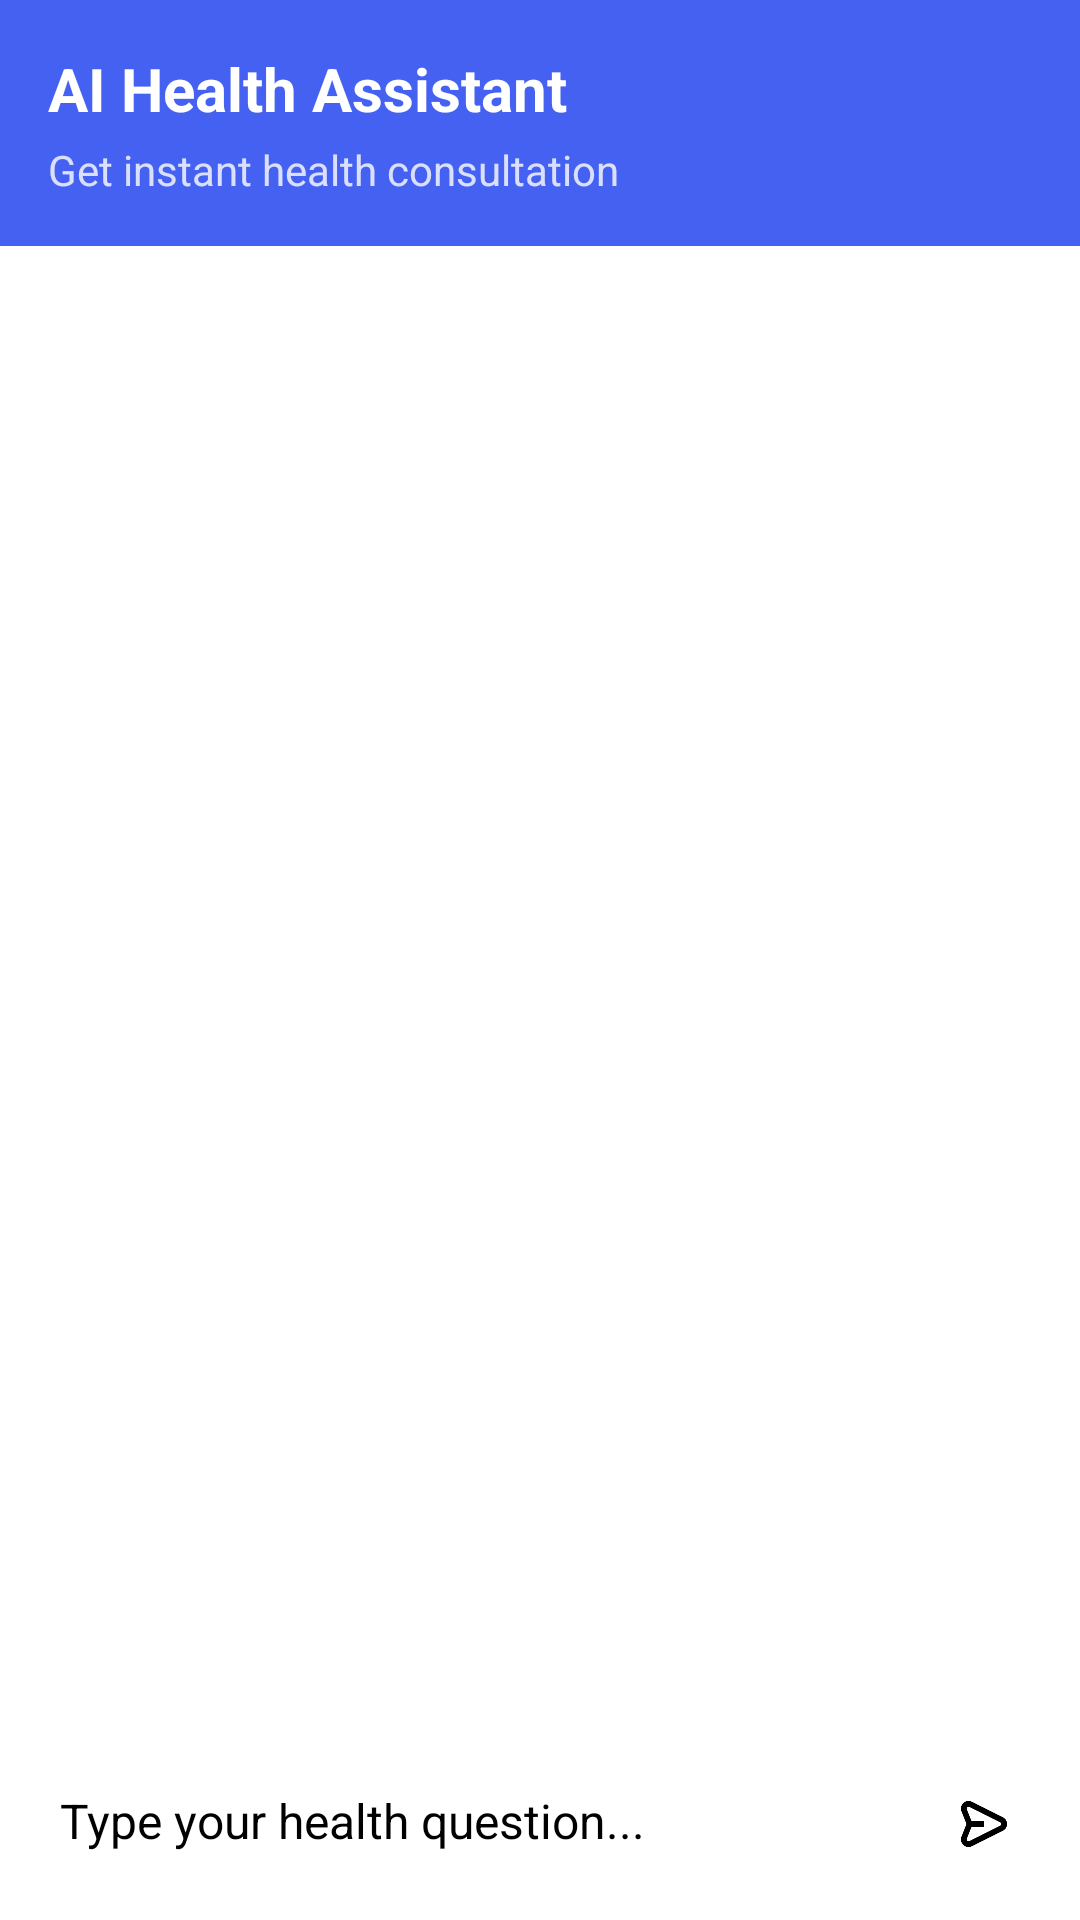

Icons on this 1080 × 1920 Android screen, each with its box as (x1, y1, x2, y2):
Send message: (961, 1801, 1007, 1847)
